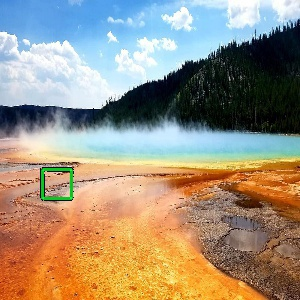square: (39, 165, 74, 202)
